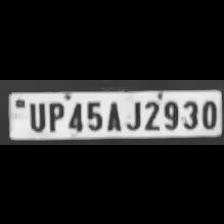0: (198, 96, 218, 128)
2: (140, 96, 160, 130)
3: (180, 97, 198, 129)
4: (64, 99, 84, 131)
5: (83, 98, 103, 130)
9: (160, 97, 178, 129)
A: (104, 97, 122, 130)
J: (122, 96, 140, 130)
P: (44, 99, 64, 131)
U: (25, 99, 47, 131)
